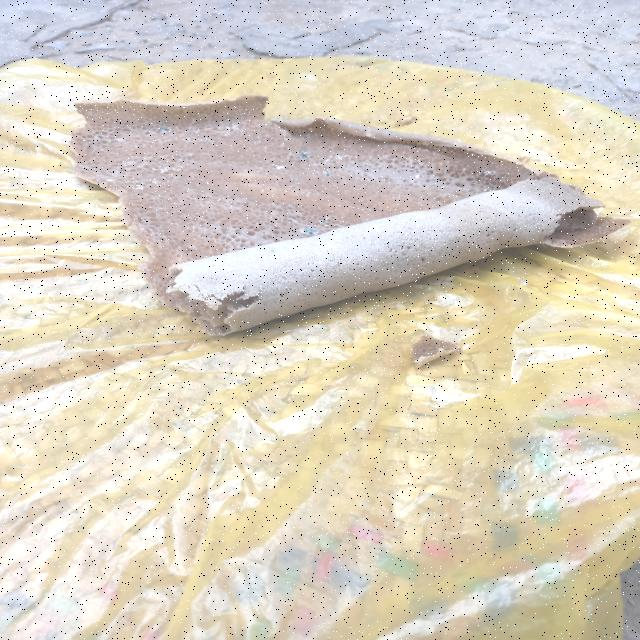injera_mold: (224, 123, 242, 136), (299, 226, 319, 237), (130, 180, 148, 192), (296, 149, 312, 161), (300, 132, 320, 140), (328, 153, 344, 162), (160, 167, 181, 173), (274, 164, 289, 172), (92, 133, 104, 143), (158, 126, 172, 134), (198, 137, 213, 144), (115, 136, 128, 144), (482, 170, 499, 176), (319, 217, 333, 224), (186, 126, 200, 133), (87, 110, 96, 120), (363, 132, 375, 139), (159, 119, 173, 125), (323, 171, 333, 179), (288, 216, 298, 224), (143, 130, 153, 137), (151, 178, 158, 188), (289, 175, 299, 182), (413, 173, 423, 180), (106, 178, 115, 185), (270, 118, 278, 125), (279, 143, 288, 149), (208, 121, 215, 128), (259, 188, 265, 195), (253, 140, 261, 145), (270, 202, 278, 207), (483, 187, 489, 193), (187, 152, 194, 157), (423, 148, 431, 152), (205, 181, 210, 186), (461, 168, 467, 172)
